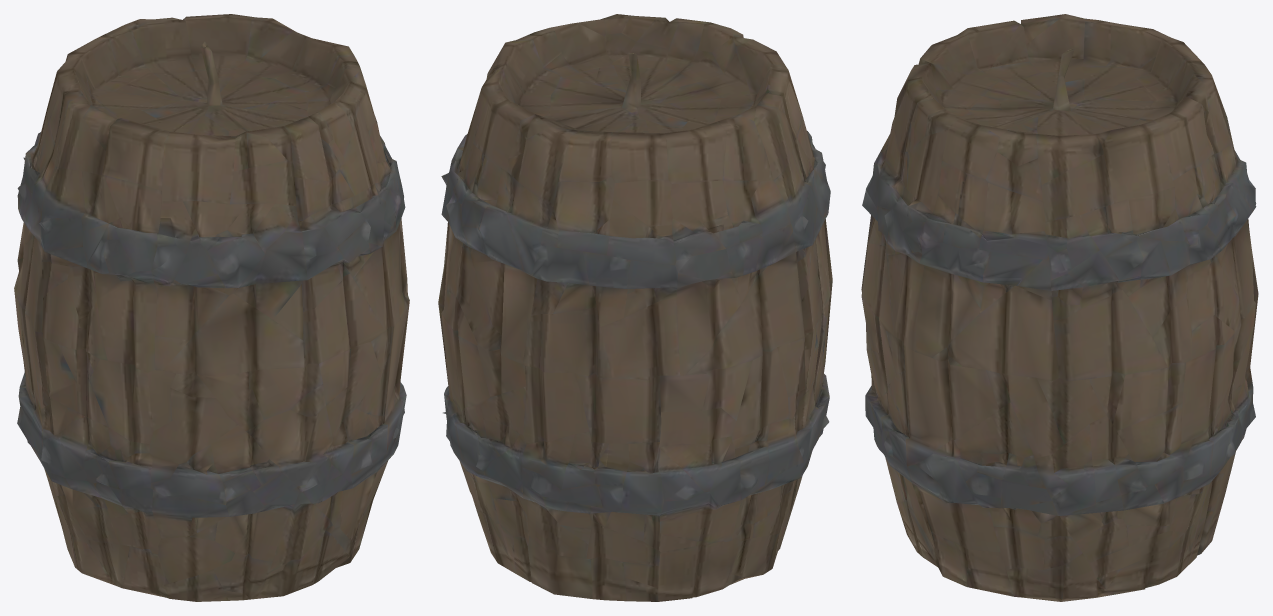
Rendered from barrel.glb.
3 views of the same model, side by side, from view 1: azimuth 30°, elevation 25°; view 2: azimuth 150°, elevation 25°; view 3: azimuth 270°, elevation 25° (orthographic).
Bounding box in the file's own units: 1.36 × 1.87 × 1.36.
Materials: 1 (1 with a texture image).
